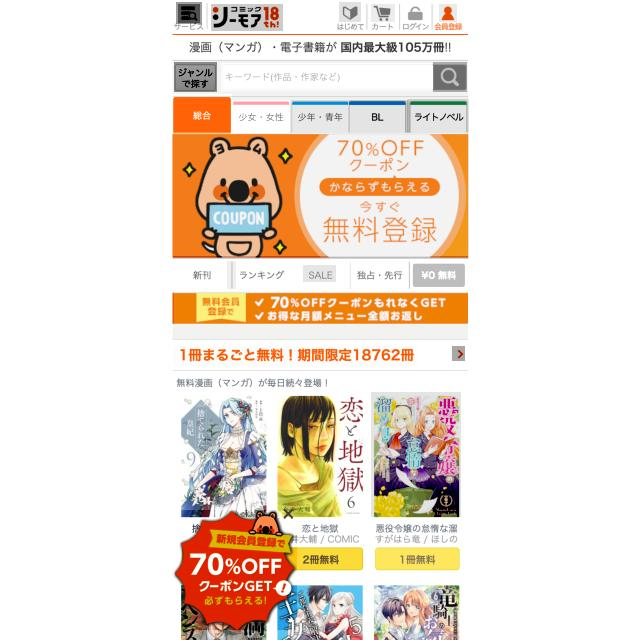CheckBox: (372, 546, 462, 572), (412, 262, 468, 288), (174, 62, 217, 92), (433, 62, 467, 92)
CheckedTextView: (221, 63, 432, 91)
ImageView: (174, 291, 468, 325)
RadioButton: (175, 510, 297, 630)
accordion: (171, 368, 471, 372), (168, 33, 474, 36), (345, 260, 355, 288), (286, 261, 295, 289), (227, 261, 236, 289)
breadcrumbs: (173, 346, 417, 366)
card: (173, 132, 468, 256)
carousel: (339, 2, 361, 22), (371, 4, 395, 22), (178, 4, 200, 23), (404, 5, 426, 22), (439, 5, 457, 22), (452, 346, 465, 361)
content: (173, 134, 469, 259)
copy: (371, 392, 461, 517), (277, 392, 362, 518)
data feed: (303, 265, 336, 282)
date picker: (211, 4, 283, 31)
decoration: (176, 2, 202, 24)
icon: (171, 94, 232, 132), (408, 99, 469, 133), (350, 100, 410, 133), (290, 100, 349, 133), (232, 100, 291, 132)
